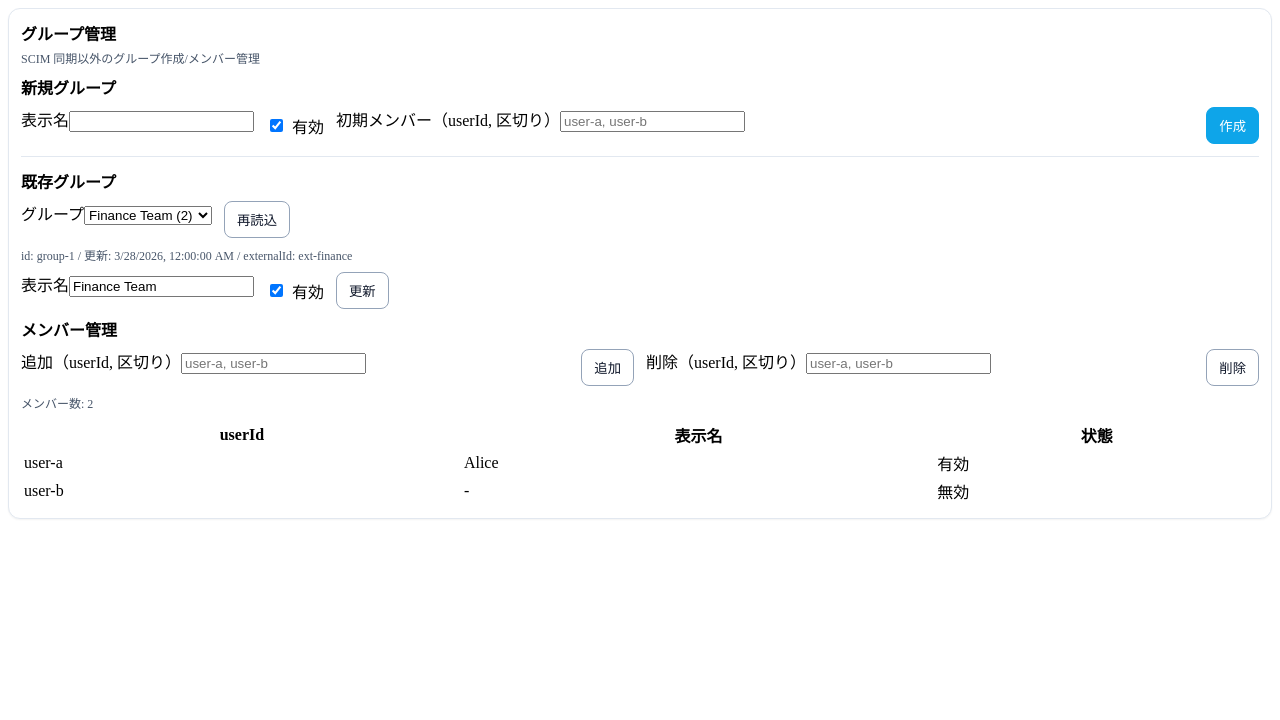
it: GroupManagementCard › loads groups, members, and reflects SCIM managed selection
The image size is (1280, 720).
Expected: the field labelled "表示名" below "group-1" holds "Finance Team", [69, 276, 254, 297]
Expected: the text "メンバー数: 2" is shown, [21, 397, 93, 411]
Select "Corp Directory (1)" in the dropdown labelled "グループ" at (148, 216), box [84, 206, 212, 225]
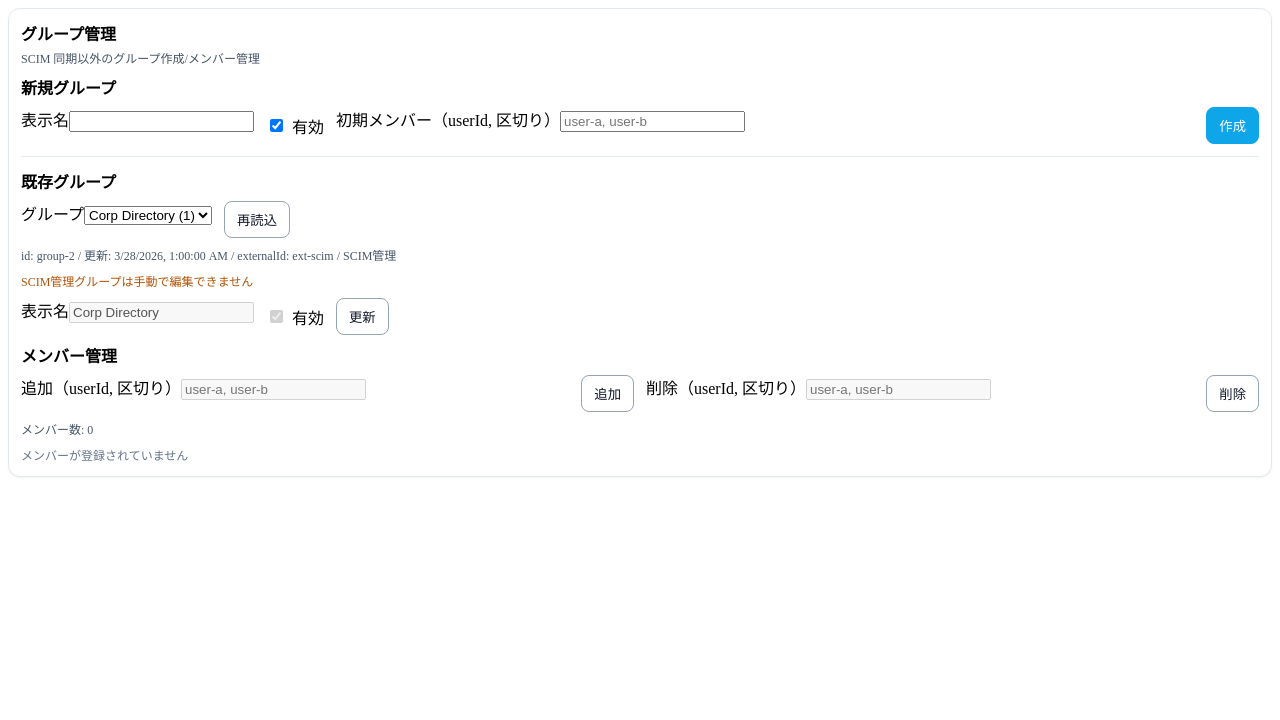
Now the text "SCIM管理グループは手動で編集できません" is shown, box [21, 275, 253, 289]
Now the field showing "Corp Directory" below "SCIM管理グループは手動で編集できません" is disabled, box [69, 302, 254, 323]
Now the button "更新" is disabled, box [336, 298, 389, 335]
